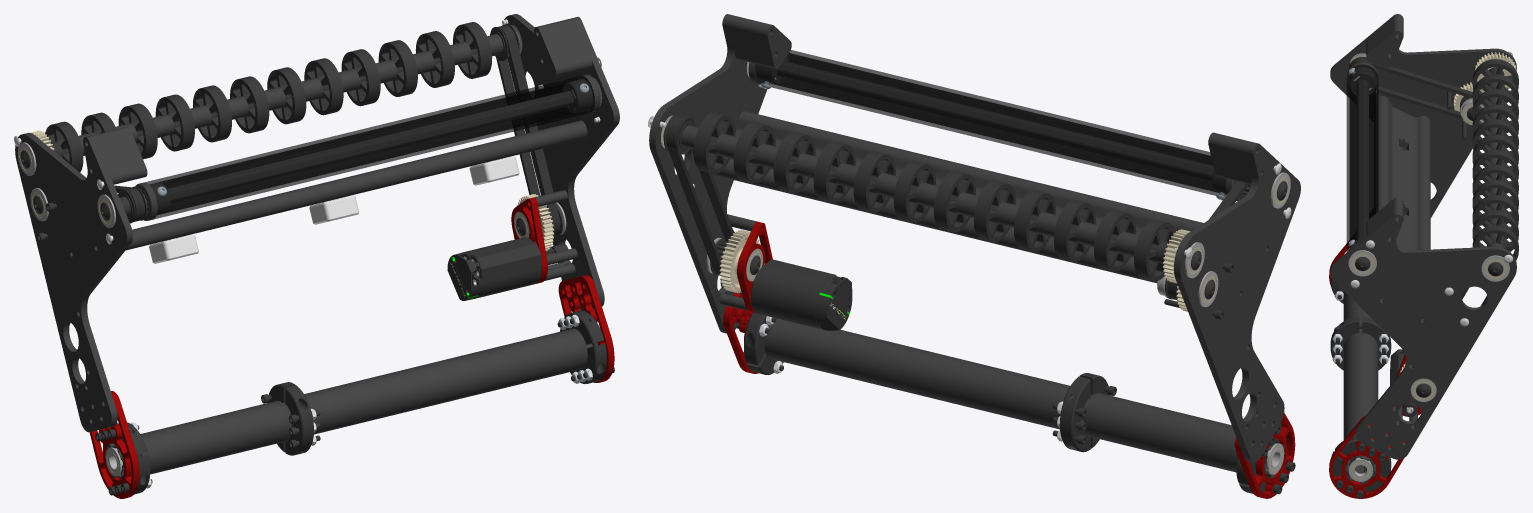
3 views of the same model, side by side, from view 1: azimuth 30°, elevation 25°; view 2: azimuth 150°, elevation 25°; view 3: azimuth 270°, elevation 25° (orthographic). The views are drawn at different scales.
Visible parts, largest first — view 1: Part 3 (×2), Tube, 2" Flex Wheel (30A, 1/2" Wide, 1/2" Hex Stretch Bore) (×11), SplineXL Custom Spacer (1.5" OD,11.691" L), Part 36 (×3), 1/2" Rounded Hex (REV) (20.625 in), SplineXL Custom Spacer (1.5" OD,6.191" L), Part 4 (×2), Kraken X44 Brushless Motor, Part 2 (×2), MAXSpline Clamping Shaft Collar (×3), id21 (×3) (+3 smaller); view 2: Part 3 (×2), 2" Flex Wheel (30A, 1/2" Wide, 1/2" Hex Stretch Bore) (×12), Tube, SplineXL Custom Spacer (1.5" OD,11.691" L), Part 36 (×3), 1/2" Rounded Hex (REV) (20.625 in), SplineXL Custom Spacer (1.5" OD,6.191" L), Kraken X44 Brushless Motor, Part 4 (×2), MAXSpline Clamping Shaft Collar (×2), Part 2 (×2), 85T 5M 9mm Wide Belt (+2 smaller); view 3: Part 3 (×2), 2" Flex Wheel (30A, 1/2" Wide, 1/2" Hex Stretch Bore) (×12), Part 36 (×2), Tube, SplineXL Custom Spacer (1.5" OD,11.691" L), 1/2" Rounded Hex (REV) (20.625 in), Part 4 (×2), MAXSpline Clamping Shaft Collar (×2), Part 2, 1/2" Rounded Hex (13.75mm) ID Bearing (1.125" OD, 0.313" WD, (×4), 70T 5M 9mm Wide Belt, Roller Hub (+5 smaller).
Boxes of the visible parts, x1,y1,x2,y2 form: Part 3 (×2): [15, 14, 619, 432]; Tube: [144, 76, 594, 219]; 2" Flex Wheel (30A, 1/2" Wide, 1/2" Hex Stretch Bore) (×11): [45, 22, 492, 172]; SplineXL Custom Spacer (1.5" OD,11.691" L): [304, 328, 587, 434]; Part 36 (×3): [126, 120, 587, 250]; 1/2" Rounded Hex (REV) (20.625 in): [167, 91, 573, 202]; SplineXL Custom Spacer (1.5" OD,6.191" L): [140, 400, 291, 474]; Part 4 (×2): [91, 18, 592, 184]; Kraken X44 Brushless Motor: [447, 237, 541, 300]; Part 2 (×2): [89, 275, 614, 498]; MAXSpline Clamping Shaft Collar (×3): [103, 310, 606, 494]; id21 (×3): [149, 156, 519, 263]; Part 3 (×2): [649, 14, 1300, 462]; 2" Flex Wheel (30A, 1/2" Wide, 1/2" Hex Stretch Bore) (×12): [693, 112, 1175, 281]; Tube: [755, 50, 1226, 196]; SplineXL Custom Spacer (1.5" OD,11.691" L): [764, 318, 1070, 429]; Part 36 (×3): [712, 111, 1203, 283]; 1/2" Rounded Hex (REV) (20.625 in): [777, 61, 1213, 181]; SplineXL Custom Spacer (1.5" OD,6.191" L): [1083, 393, 1237, 472]; Kraken X44 Brushless Motor: [751, 259, 852, 330]; Part 4 (×2): [729, 15, 1251, 184]; MAXSpline Clamping Shaft Collar (×2): [744, 312, 1110, 452]; Part 2 (×2): [723, 292, 1295, 498]; 85T 5M 9mm Wide Belt: [666, 115, 733, 275]; Part 3 (×2): [1330, 14, 1516, 459]; 2" Flex Wheel (30A, 1/2" Wide, 1/2" Hex Stretch Bore) (×12): [1472, 59, 1518, 260]; Part 36 (×2): [1376, 96, 1430, 249]; Tube: [1346, 65, 1378, 251]; SplineXL Custom Spacer (1.5" OD,11.691" L): [1343, 332, 1378, 472]; 1/2" Rounded Hex (REV) (20.625 in): [1356, 79, 1368, 239]; Part 4 (×2): [1366, 16, 1403, 238]; MAXSpline Clamping Shaft Collar (×2): [1330, 316, 1391, 492]; Part 2: [1329, 415, 1406, 498]; 1/2" Rounded Hex (13.75mm) ID Bearing (1.125" OD, 0.313" WD, (×4): [1348, 98, 1509, 401]; 70T 5M 9mm Wide Belt: [1348, 58, 1472, 119]; Roller Hub: [1346, 62, 1378, 94].
Size of the model in its own units: 0.5341 by 0.3474 by 0.2082.
